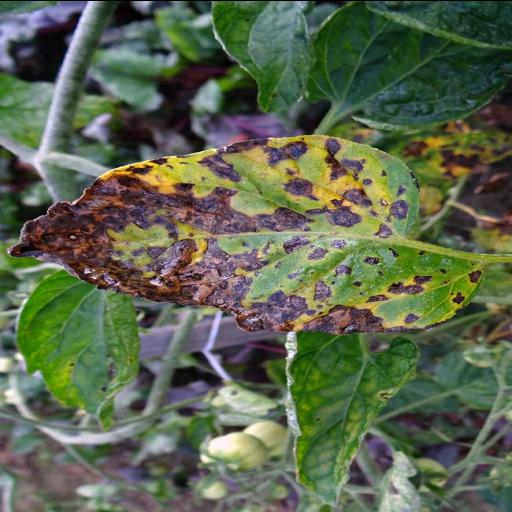Early Blight: (4, 132, 483, 333)
